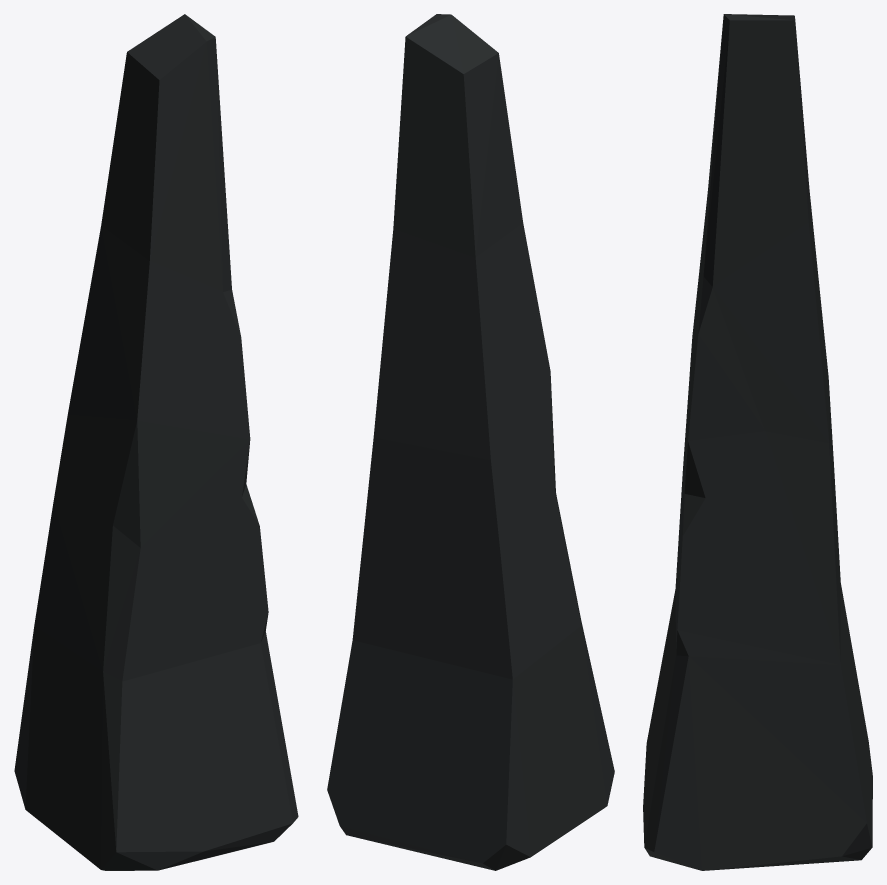
File: Portal_01_Fragment_A.FBX
3 renders of one model, left to right at view 1: azimuth 30°, elevation 25°; view 2: azimuth 150°, elevation 25°; view 3: azimuth 270°, elevation 25°, orthographic. The views are drawn at different scales.
Parts seen in each view (by area): view 1: Portal_01_Fragment_A; view 2: Portal_01_Fragment_A; view 3: Portal_01_Fragment_A.
Part boxes in pixels (box(x1,y1,x2,y2)): Portal_01_Fragment_A: box(14, 14, 298, 870); Portal_01_Fragment_A: box(327, 14, 614, 870); Portal_01_Fragment_A: box(643, 14, 872, 870).
Bounding box in the file's own units: 0.5622 × 2.19 × 0.5539.
